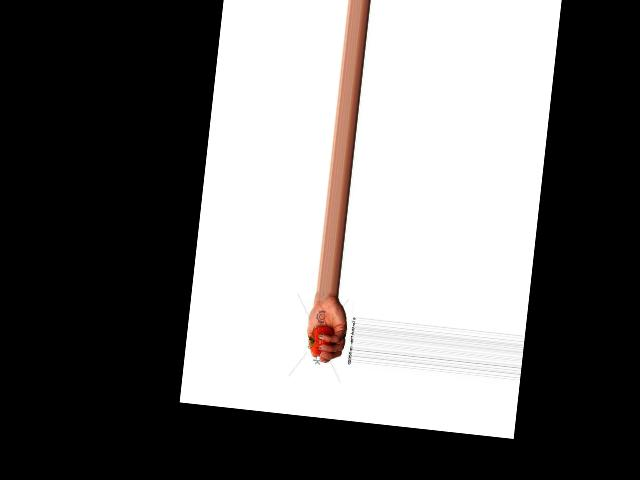tomato: (308, 325, 336, 357)
